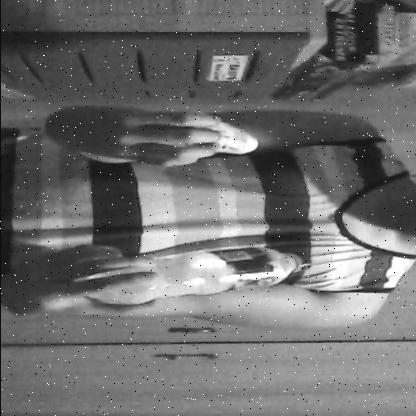Plastic Bottle: (67, 240, 327, 310)
